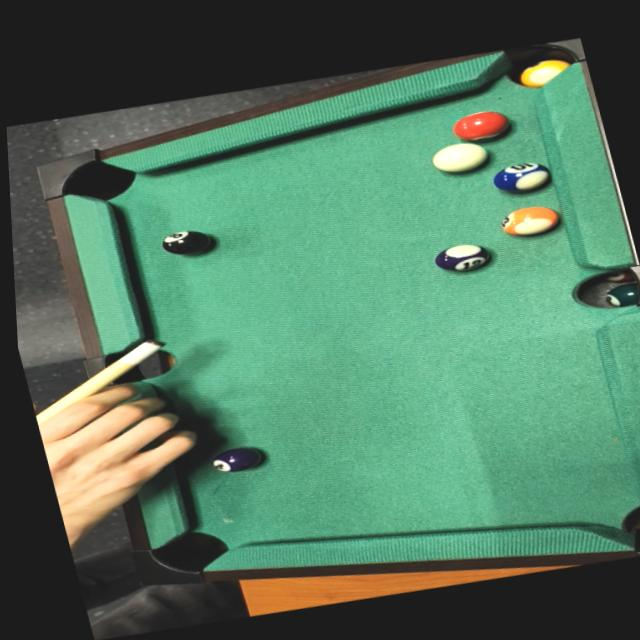cue ball: (427, 134, 492, 181)
other: (493, 198, 567, 244), (483, 154, 555, 201), (427, 235, 497, 281), (446, 103, 514, 147), (208, 440, 268, 479), (157, 222, 217, 260)
